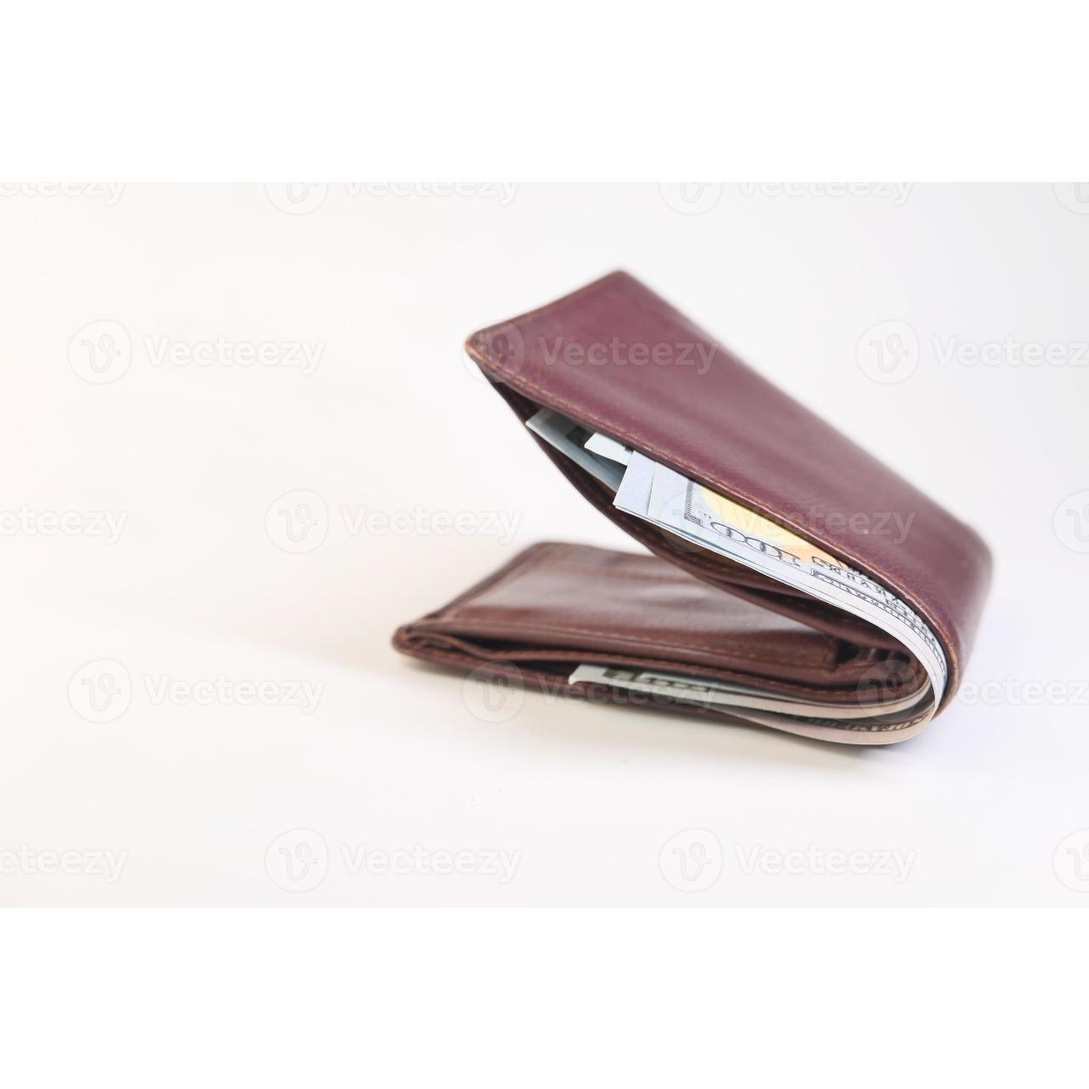wallet: (335, 217, 1023, 862)
